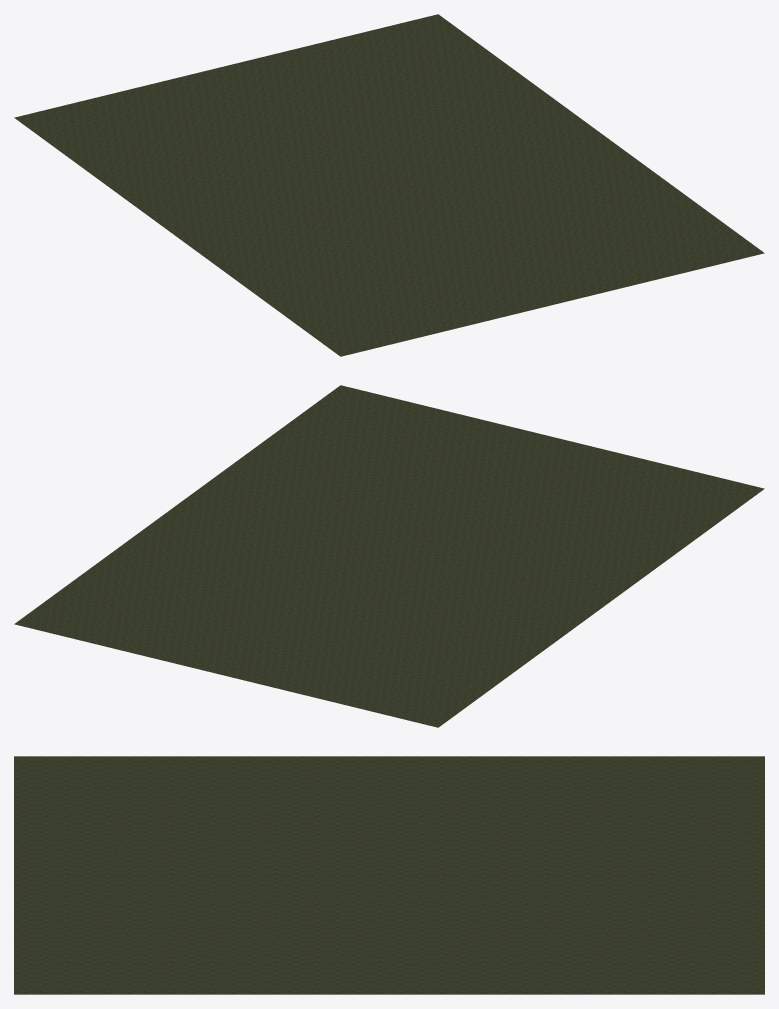
File: garden_floor.glb
3 renders of one model, top to bottom at view 1: azimuth 30°, elevation 25°; view 2: azimuth 150°, elevation 25°; view 3: azimuth 270°, elevation 25°, orthographic. The views are drawn at different scales.
Parts seen in each view (by area): view 1: garden_floor0; view 2: garden_floor0; view 3: garden_floor0.
Part boxes in pixels (x1=…): garden_floor0: x1=14, y1=14, x2=764, y2=356; garden_floor0: x1=14, y1=385, x2=764, y2=727; garden_floor0: x1=14, y1=756, x2=764, y2=994.
Bounding box in the file's own units: 54 × 0 × 72.
1 material, 1 textured.
